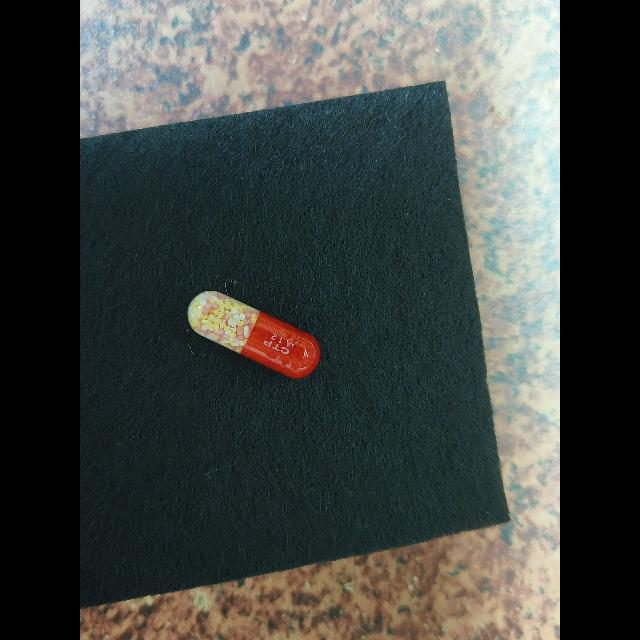Intact Capsule: (187, 291, 320, 379)
